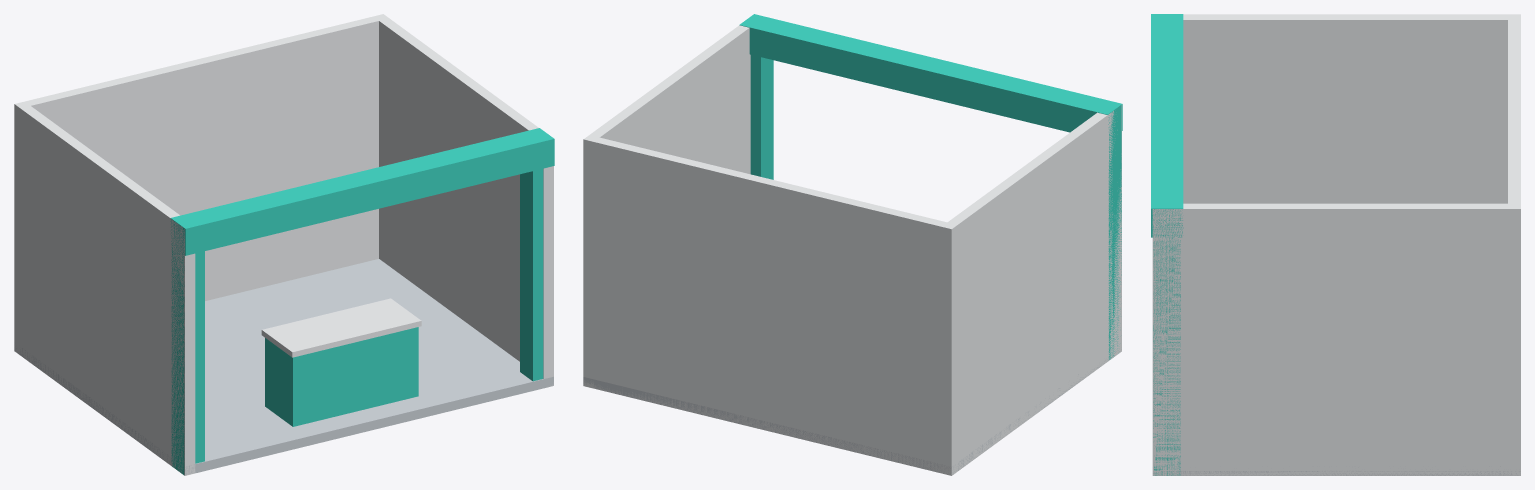
3 views of the same model, side by side, from view 1: azimuth 30°, elevation 25°; view 2: azimuth 150°, elevation 25°; view 3: azimuth 270°, elevation 25° (orthographic). The views are drawn at different scales.
Parts seen in each view (by area): view 1: Exhibition Booth Concept; view 2: Exhibition Booth Concept; view 3: Exhibition Booth Concept.
Part boxes in pixels (left/top/right/bottom): Exhibition Booth Concept: left=14, top=14, right=554, bottom=475; Exhibition Booth Concept: left=583, top=14, right=1122, bottom=475; Exhibition Booth Concept: left=1151, top=14, right=1520, bottom=475.
Size of the model in its own units: 5 by 3.2 by 4.02.
